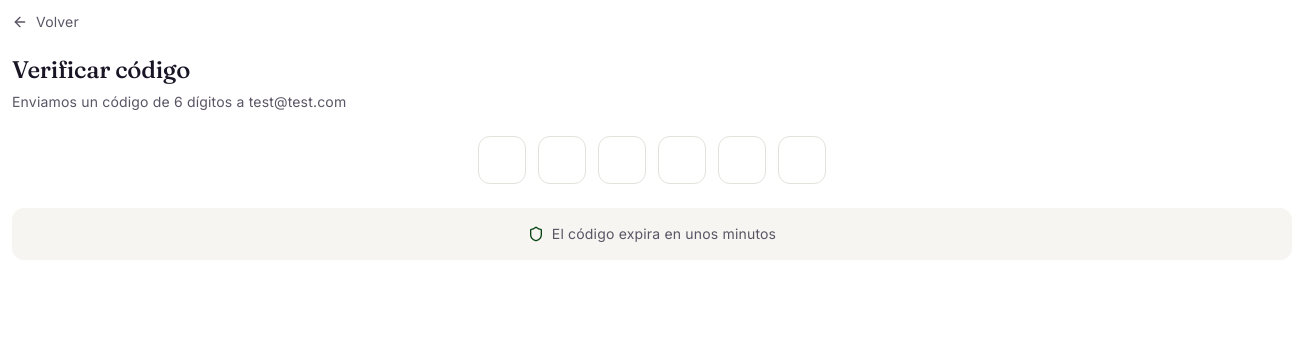
Scenario: VerifyOTPPage › shows error on invalid OTP and clears fields
Type "1" into the field named "Dígito 1" at (502, 160), box [478,136,526,184]
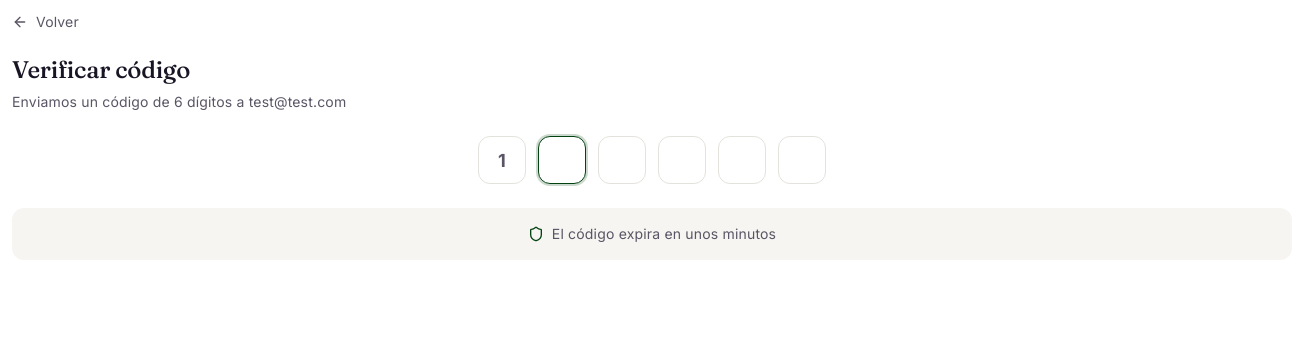
Type "1" into the field named "Dígito 2" at (562, 160), box [538,136,586,184]
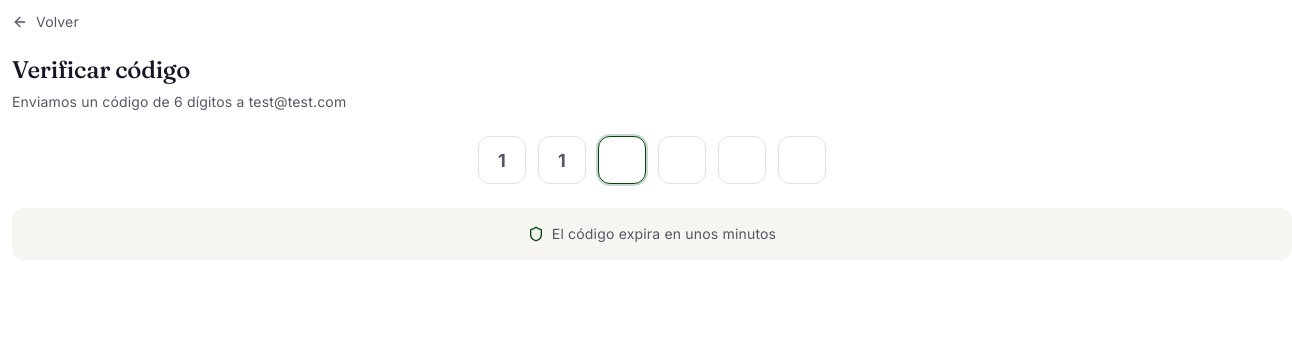
Type "1" into the field named "Dígito 3" at (622, 160), box [598,136,646,184]
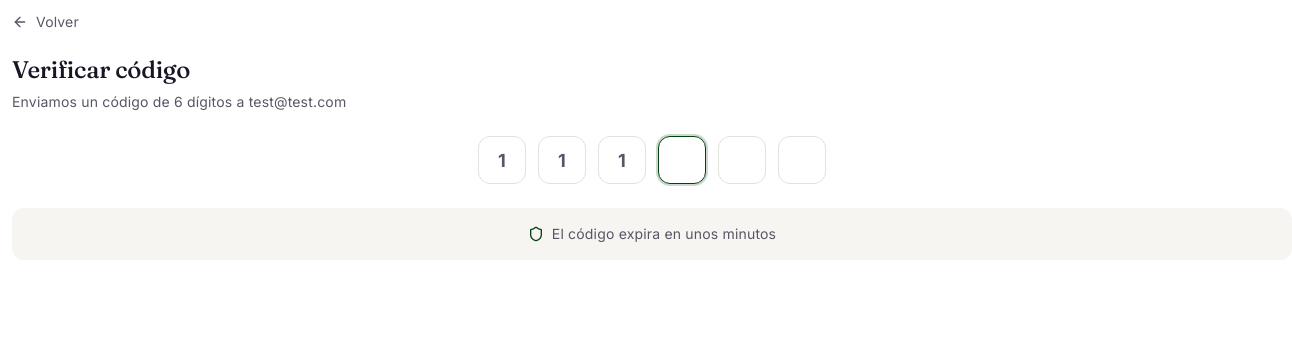
Type "1" into the field named "Dígito 4" at (682, 160), box [658,136,706,184]
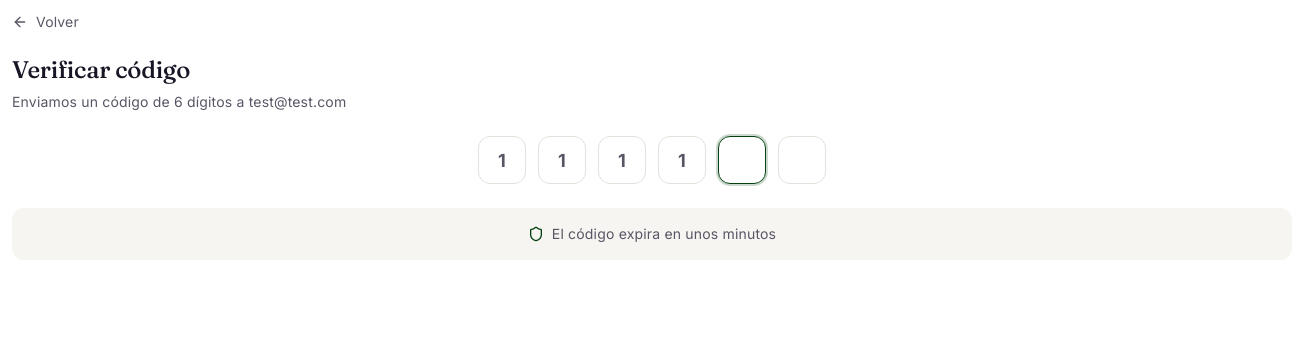
Type "1" into the field named "Dígito 5" at (742, 160), box [718,136,766,184]
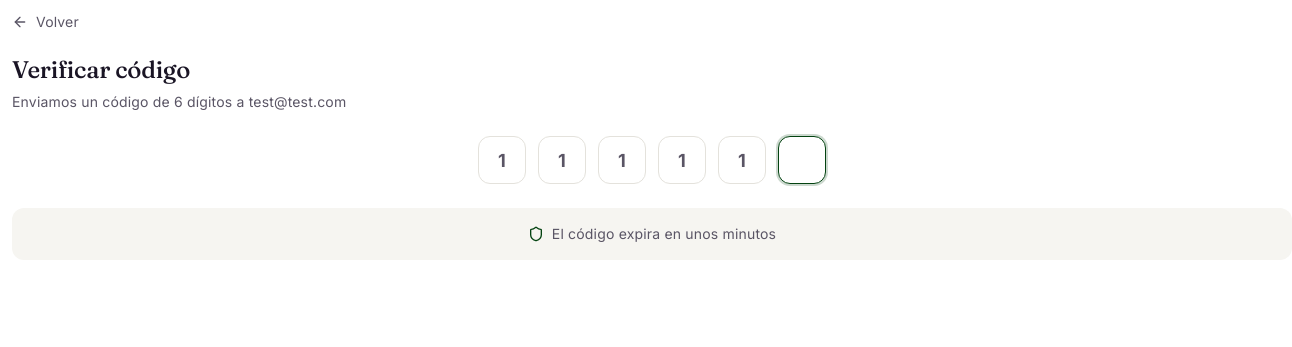
Type "1" into the field named "Dígito 6" at (802, 160), box [778,136,826,184]
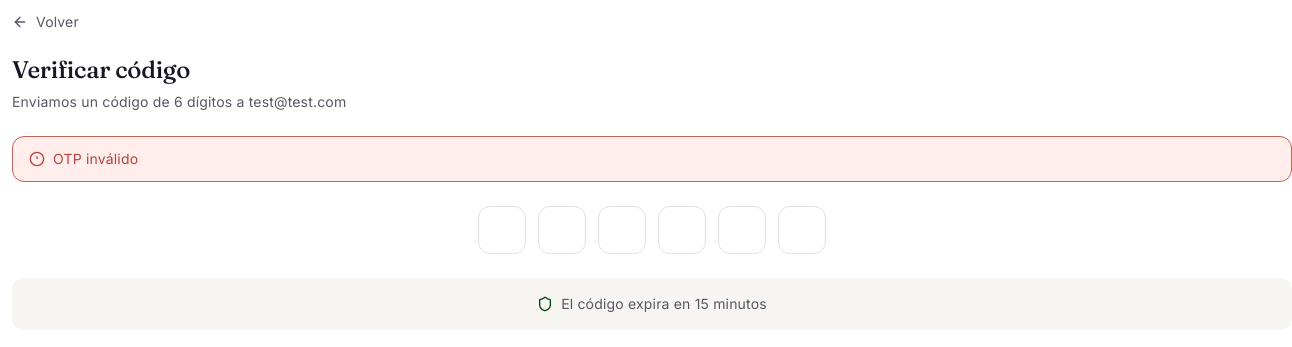
Expected: the text "OTP inválido" is shown, [12,136,1291,182]
Expected: the field named "Dígito 2" is empty, [538,206,586,254]
Expected: the field named "Dígito 3" is empty, [598,206,646,254]
